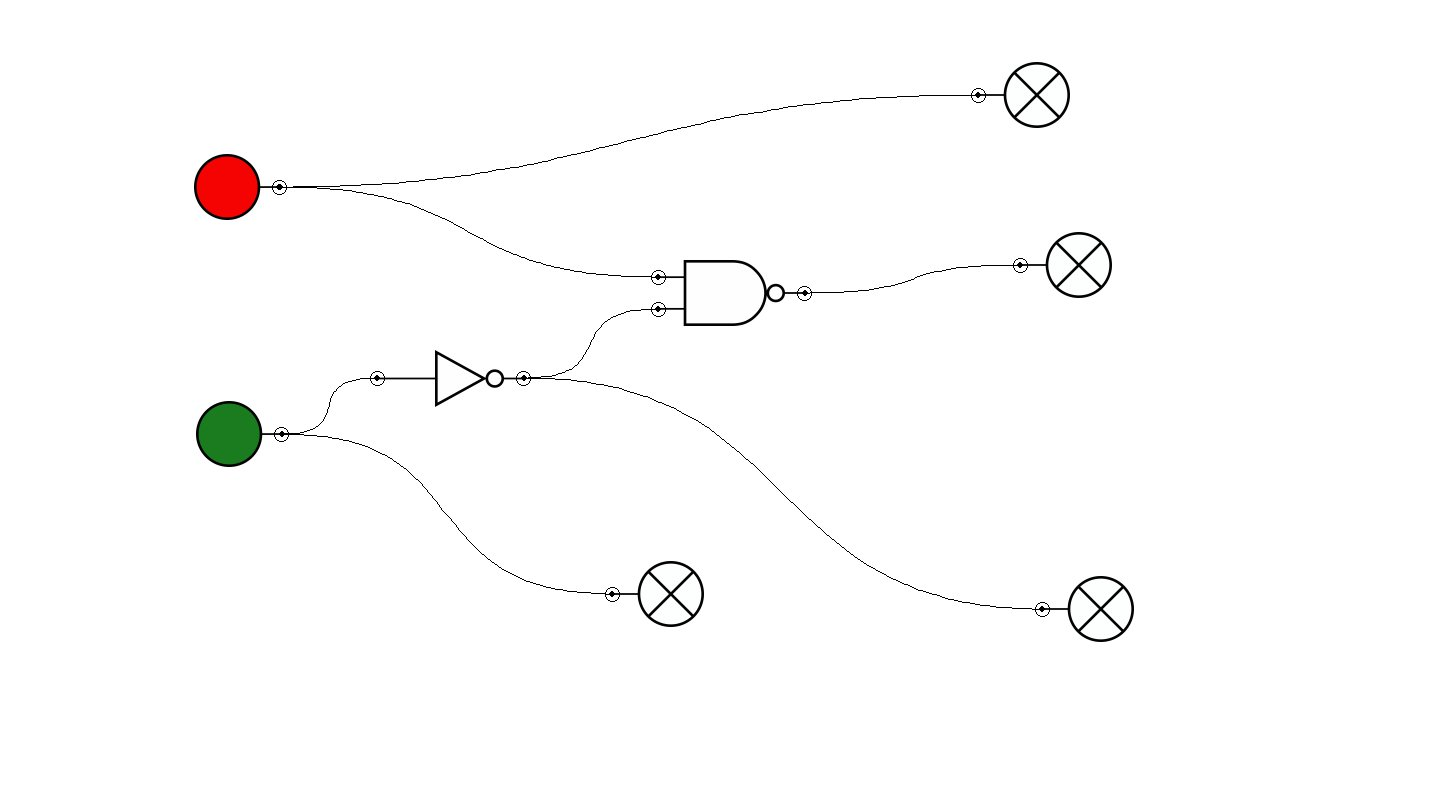bulb: (605, 561, 704, 627), (971, 62, 1070, 128), (1035, 576, 1134, 642), (1013, 232, 1112, 298)
nand: (651, 260, 812, 326)
not: (370, 350, 531, 407)
switch_False: (194, 154, 287, 220)
switch_True: (196, 401, 289, 467)
